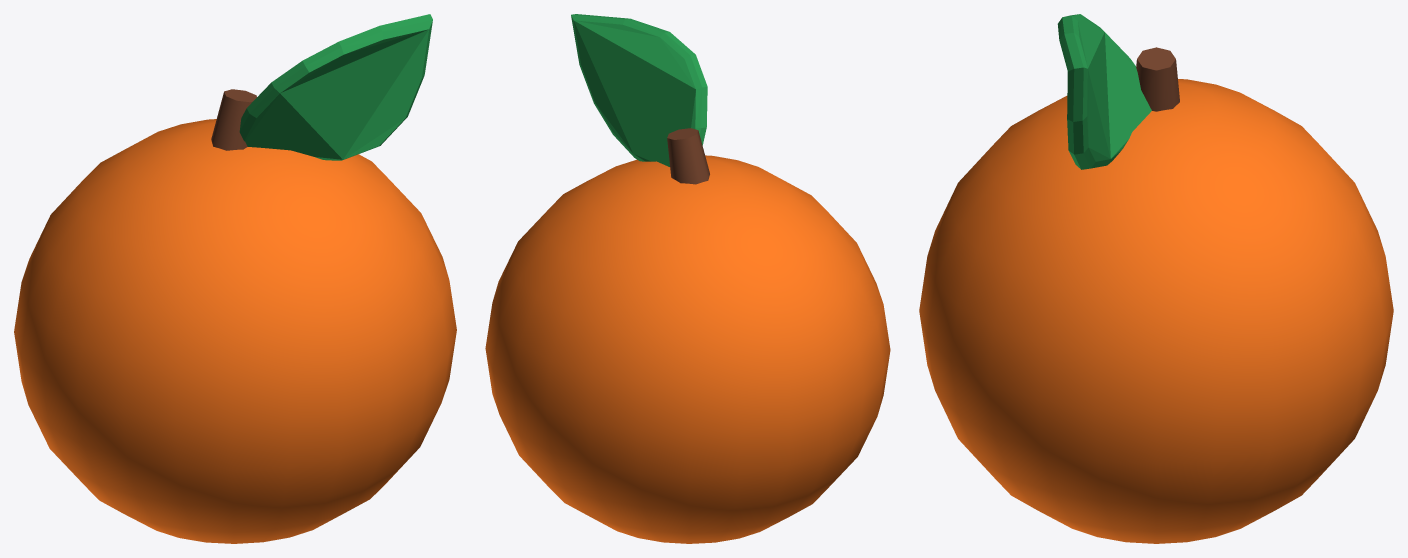
The model's file is orange.glb.
3 views of the same model, side by side, from view 1: azimuth 30°, elevation 25°; view 2: azimuth 150°, elevation 25°; view 3: azimuth 270°, elevation 25° (orthographic). The views are drawn at different scales.
Parts seen in each view (by area): view 1: orange-orange, orange-leaf, orange-stem; view 2: orange-orange, orange-leaf, orange-stem; view 3: orange-orange, orange-leaf, orange-stem.
Part boxes in pixels (bbox=[...]): orange-orange: bbox=[14, 119, 456, 543]; orange-leaf: bbox=[239, 14, 432, 160]; orange-stem: bbox=[211, 89, 256, 150]; orange-orange: bbox=[485, 155, 890, 543]; orange-leaf: bbox=[571, 14, 707, 166]; orange-stem: bbox=[667, 128, 709, 184]; orange-orange: bbox=[919, 79, 1393, 543]; orange-leaf: bbox=[1057, 14, 1151, 169]; orange-stem: bbox=[1136, 47, 1179, 111].
Size of the model in its own units: 1.74 by 2.15 by 1.7.
